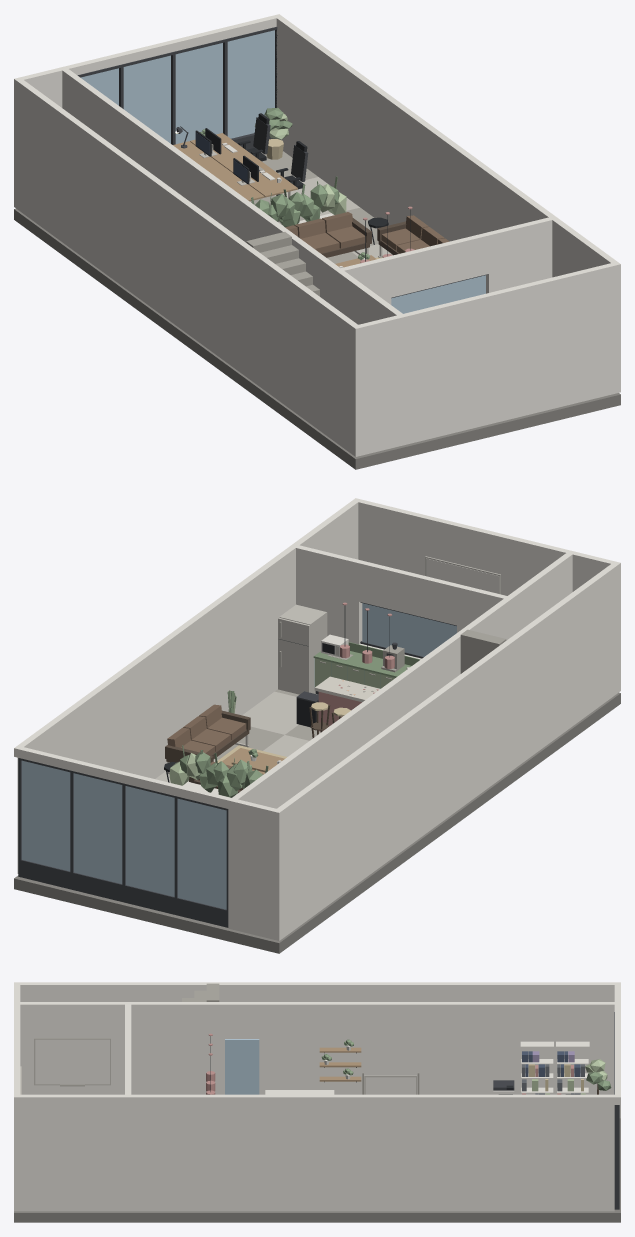
The model's file is office_room.glb.
3 renders of one model, top to bottom at view 1: azimuth 30°, elevation 25°; view 2: azimuth 150°, elevation 25°; view 3: azimuth 270°, elevation 25°, orthographic. The views are drawn at different scales.
Parts seen in each view (by area): view 1: room_shell, room_wall_east, sofa_01, planter_divider_01, sofa_02, plant_monstera_01, desk_04_Joy, office_chair_04_Joy, office_chair_03_Grey, desk_03_Grey, desk_02_Penny; view 2: room_shell, room_wall_east, fridge_01, sofa_02, planter_divider_01, kitchen_run_01, bar_table_01, whiteboard_wall_01, trash_can_01; view 3: room_wall_east, room_shell, whiteboard_wall_02, bookcase_02, bookcase_01, whiteboard_mobile_01, plant_fig_01, flat_file_01.
Part boxes in pixels (x1=…): room_shell: x1=14, y1=14, x2=620, y2=469; room_wall_east: x1=276, y1=16, x2=616, y2=277; sofa_01: x1=285, y1=212, x2=371, y2=257; planter_divider_01: x1=251, y1=176, x2=346, y2=227; sofa_02: x1=377, y1=215, x2=449, y2=257; plant_monstera_01: x1=254, y1=108, x2=292, y2=159; desk_04_Joy: x1=227, y1=160, x2=297, y2=221; office_chair_04_Joy: x1=276, y1=141, x2=308, y2=198; office_chair_03_Grey: x1=238, y1=113, x2=270, y2=161; desk_03_Grey: x1=190, y1=133, x2=259, y2=168; desk_02_Penny: x1=210, y1=168, x2=264, y2=201; room_shell: x1=14, y1=498, x2=620, y2=953; room_wall_east: x1=17, y1=500, x2=358, y2=873; fridge_01: x1=278, y1=604, x2=327, y2=694; sofa_02: x1=165, y1=704, x2=250, y2=774; planter_divider_01: x1=169, y1=745, x2=268, y2=797; kitchen_run_01: x1=313, y1=642, x2=420, y2=694; bar_table_01: x1=314, y1=676, x2=380, y2=731; whiteboard_wall_01: x1=425, y1=556, x2=500, y2=594; trash_can_01: x1=296, y1=691, x2=318, y2=727; room_wall_east: x1=20, y1=1094, x2=614, y2=1211; room_shell: x1=14, y1=982, x2=620, y2=1222; whiteboard_wall_02: x1=34, y1=1038, x2=110, y2=1086; bookcase_02: x1=520, y1=1041, x2=553, y2=1094; bookcase_01: x1=556, y1=1041, x2=589, y2=1094; whiteboard_mobile_01: x1=362, y1=1072, x2=419, y2=1094; plant_fig_01: x1=585, y1=1059, x2=611, y2=1094; flat_file_01: x1=265, y1=1090, x2=334, y2=1094.
Bounding box in the file's own units: 6.5 × 3.34 × 14.5.
